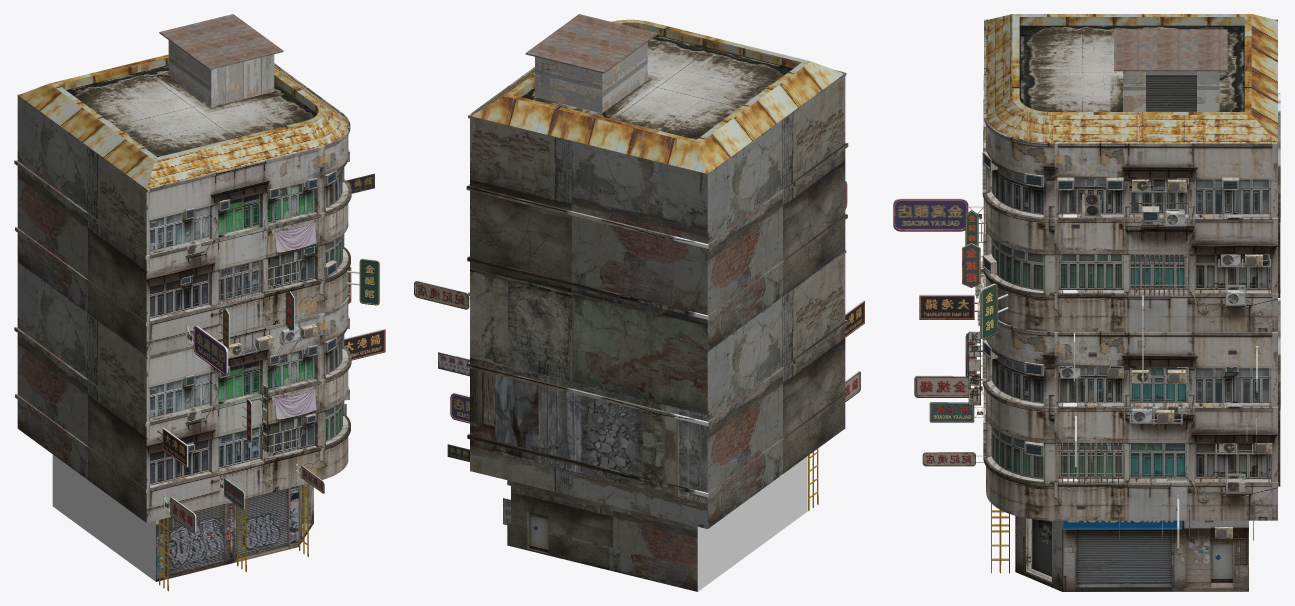
3 renders of one model, left to right at view 1: azimuth 30°, elevation 25°; view 2: azimuth 150°, elevation 25°; view 3: azimuth 270°, elevation 25°, orthographic. The views are drawn at different scales.
Parts seen in each view (by area): view 1: Cube.047; view 2: Cube.047; view 3: Cube.047.
Boxes of the visible parts, box(x1,y1,x2,y2) form: Cube.047: box(14, 14, 385, 591); Cube.047: box(414, 14, 864, 591); Cube.047: box(893, 14, 1280, 591).
Bounding box in the file's own units: 2.57 × 3.93 × 2.65.
Materials: 16 (13 with a texture image).
